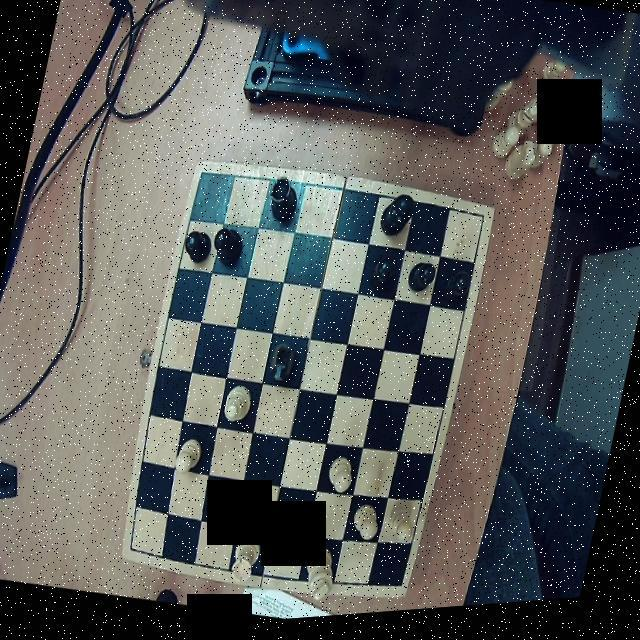chess-table-corners: (192, 163, 218, 194), (468, 210, 493, 237), (390, 572, 410, 604), (124, 538, 146, 564)
